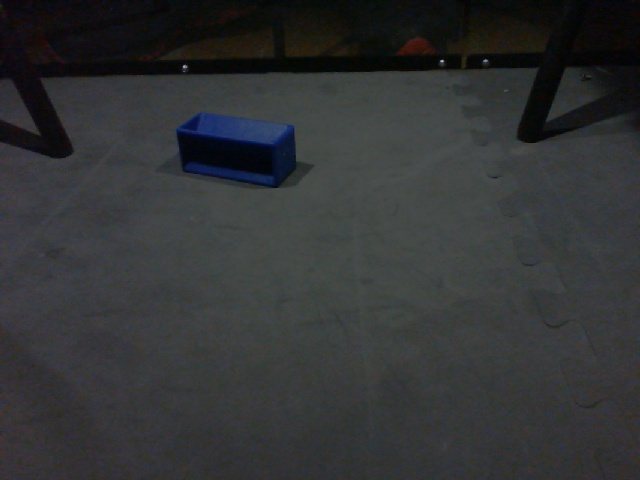BlueSample: (173, 109, 298, 190)
